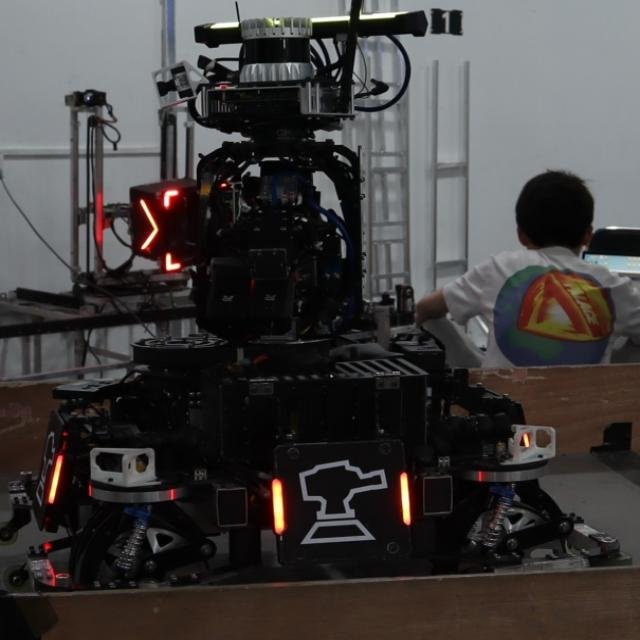Rs: (268, 449, 416, 552), (36, 424, 66, 514)
